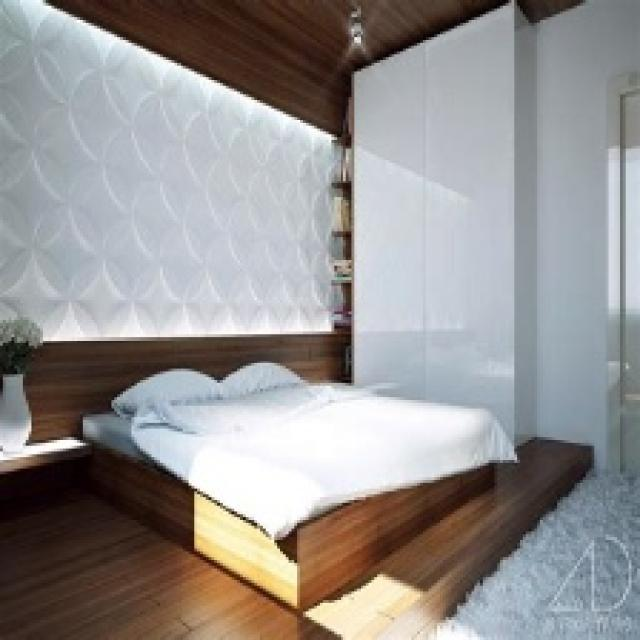Bed: (80, 377, 517, 612)
